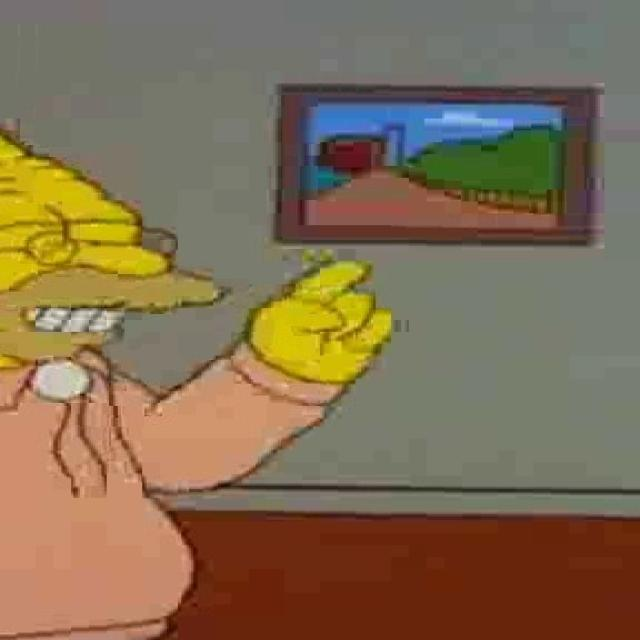Abraham Grampa Simpson: (1, 124, 230, 370)
